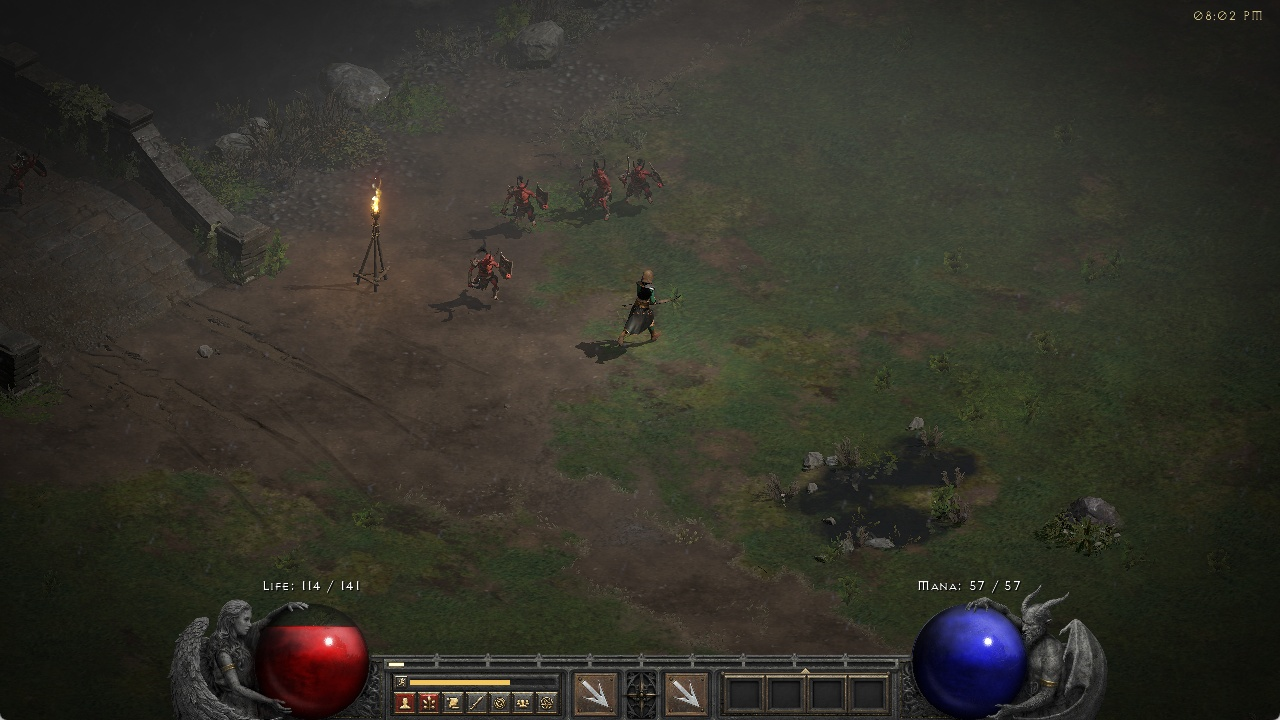fallen: (463, 244, 518, 308), (495, 178, 553, 225), (574, 156, 613, 222), (624, 152, 666, 204), (6, 153, 46, 206)
